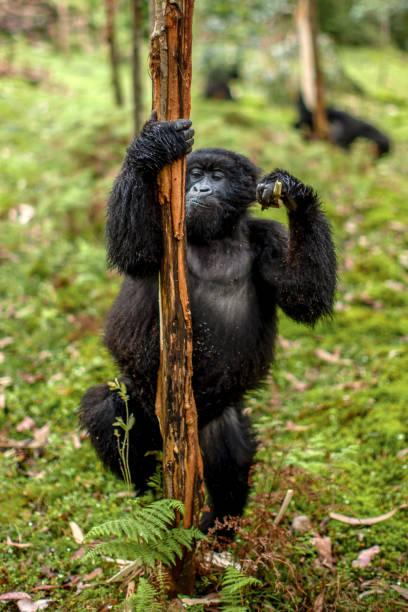goriile_montagne: (82, 112, 357, 571)
